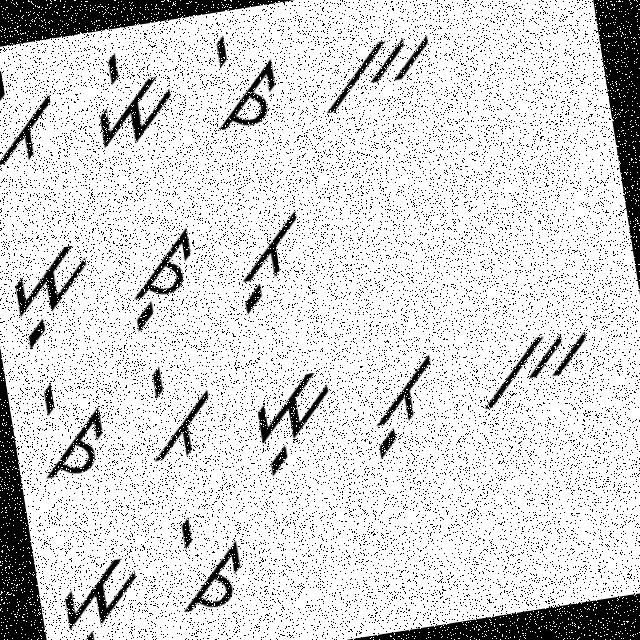be: (132, 350, 226, 474), (0, 59, 69, 182)
bu: (356, 346, 451, 468), (216, 206, 312, 318)
ce: (162, 507, 256, 622), (30, 368, 114, 490), (198, 27, 288, 140)
cu: (104, 218, 210, 337)
me: (84, 34, 194, 154)
mu: (236, 358, 350, 488), (0, 219, 105, 356), (40, 539, 153, 639)
